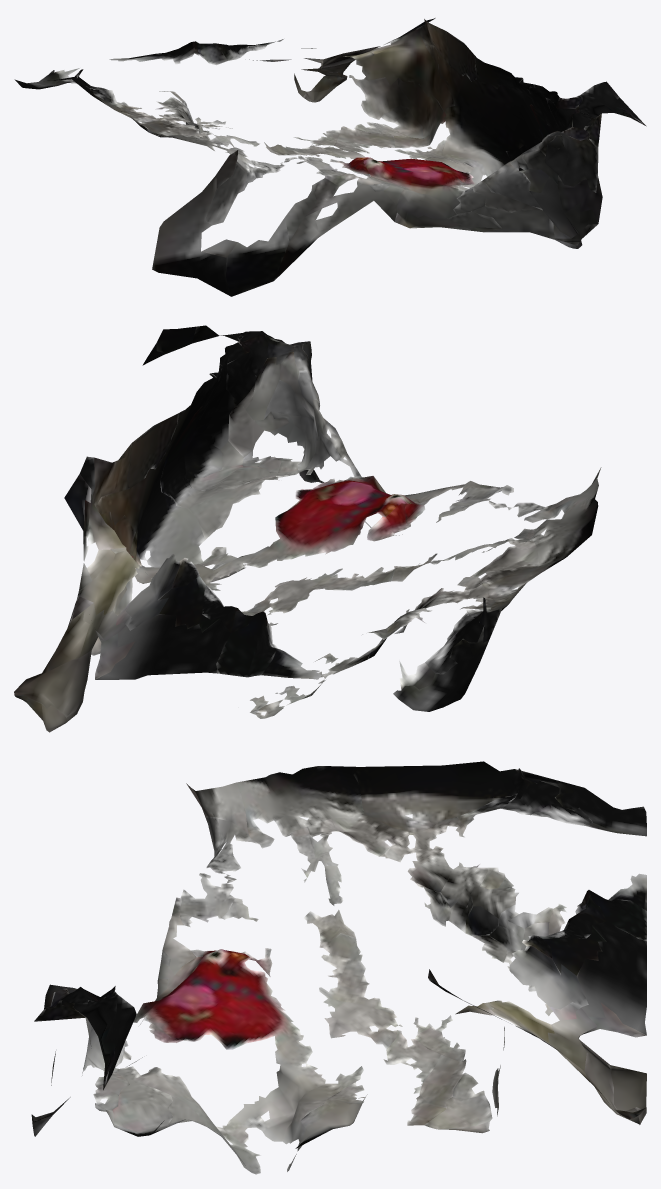
File: hall.glb
3 views of the same model, one above another, from view 1: azimuth 30°, elevation 25°; view 2: azimuth 150°, elevation 25°; view 3: azimuth 270°, elevation 25° (orthographic). The views are drawn at different scales.
Bounding box in the file's own units: 0.9037 × 0.3392 × 0.8652.
1 material, 1 textured.
